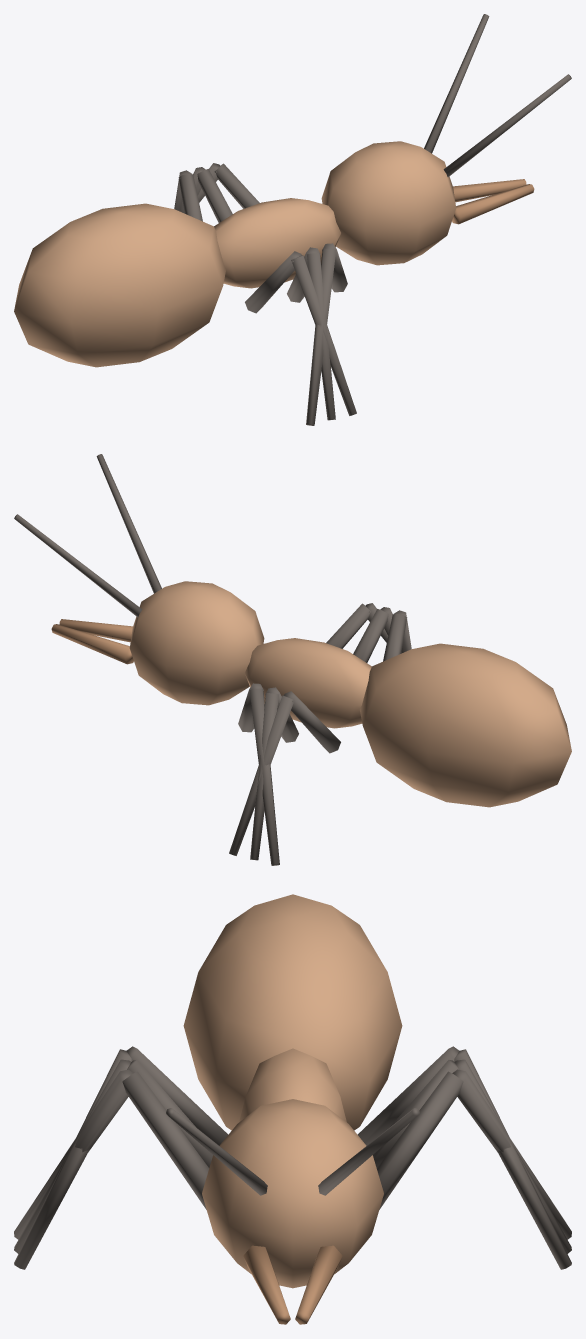
File: tiny-snap-jaw-ant.glb
3 views of the same model, one above another, from view 1: azimuth 30°, elevation 25°; view 2: azimuth 150°, elevation 25°; view 3: azimuth 270°, elevation 25° (orthographic). The views are drawn at different scales.
Visible parts, largest first — view 1: e; view 2: e; view 3: e.
Boxes of the visible parts, left/top/right/bottom form: e: left=14, top=14, right=571, bottom=425; e: left=14, top=454, right=571, bottom=865; e: left=14, top=894, right=571, bottom=1324.
Bounding box in the file's own units: 0.2409 × 0.1069 × 0.153.
